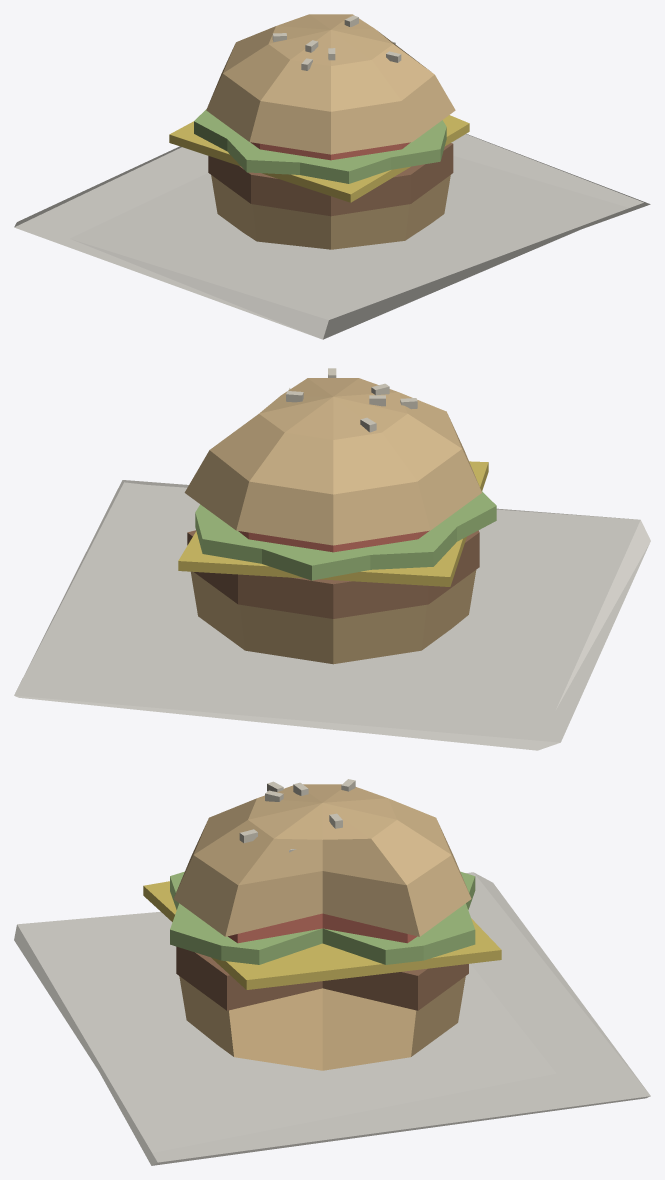
File: litter_hamburger.glb
3 renders of one model, top to bottom at view 1: azimuth 30°, elevation 25°; view 2: azimuth 150°, elevation 25°; view 3: azimuth 270°, elevation 25°, orthographic. The views are drawn at different scales.
Visible parts, largest first — view 1: litter_hamburger; view 2: litter_hamburger; view 3: litter_hamburger.
Part boxes in pixels (x1,y1,x2,y2): litter_hamburger: [14, 14, 650, 339]; litter_hamburger: [14, 368, 650, 750]; litter_hamburger: [14, 779, 650, 1165].
Bounding box in the file's own units: 0.2517 × 0.0891 × 0.2314.
